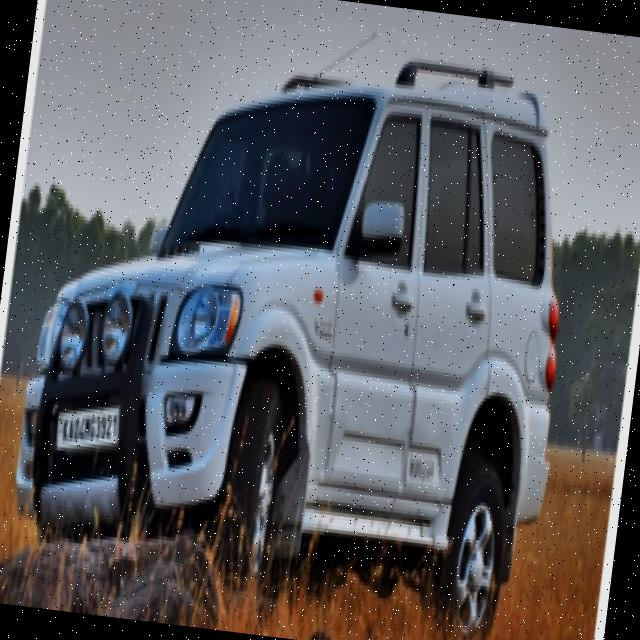Autre: (50, 394, 128, 457)
